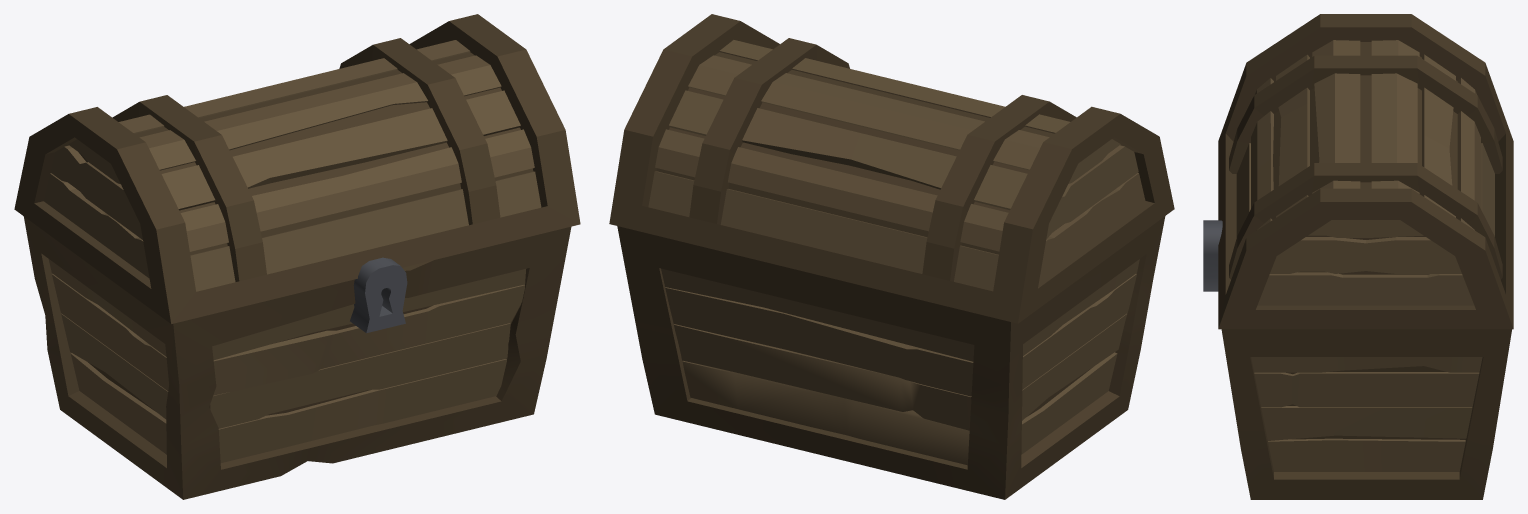
File: Chest_Gold.glb
The picture shows the model from 3 angles, left to right: view 1: azimuth 30°, elevation 25°; view 2: azimuth 150°, elevation 25°; view 3: azimuth 270°, elevation 25°; orthographic projection. The views are drawn at different scales.
Parts seen in each view (by area): view 1: Chest_Gold_Top, Chest_Gold_Base; view 2: Chest_Gold_Top, Chest_Gold_Base; view 3: Chest_Gold_Top, Chest_Gold_Base.
Part boxes in pixels (x1,y1,x2,y2): Chest_Gold_Top: (14,14,580,324); Chest_Gold_Base: (23,216,571,499); Chest_Gold_Top: (609,14,1174,323); Chest_Gold_Base: (617,216,1165,499); Chest_Gold_Top: (1218,14,1513,329); Chest_Gold_Base: (1203,220,1511,499).
Bounding box in the file's own units: 1.18 × 0.9107 × 0.8223.
